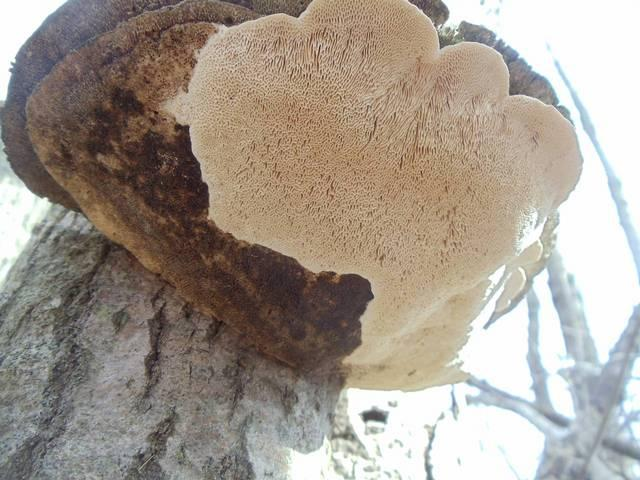Non-edible Mushroom: (4, 0, 584, 394)
